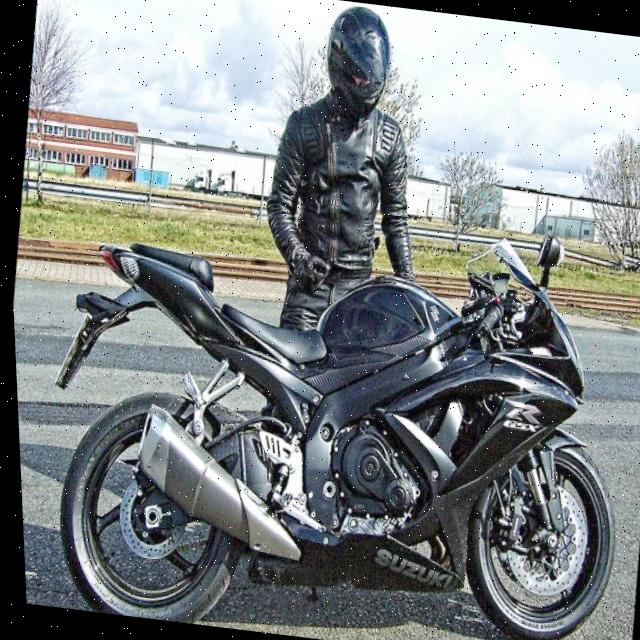motorcycle: (16, 165, 640, 640)
